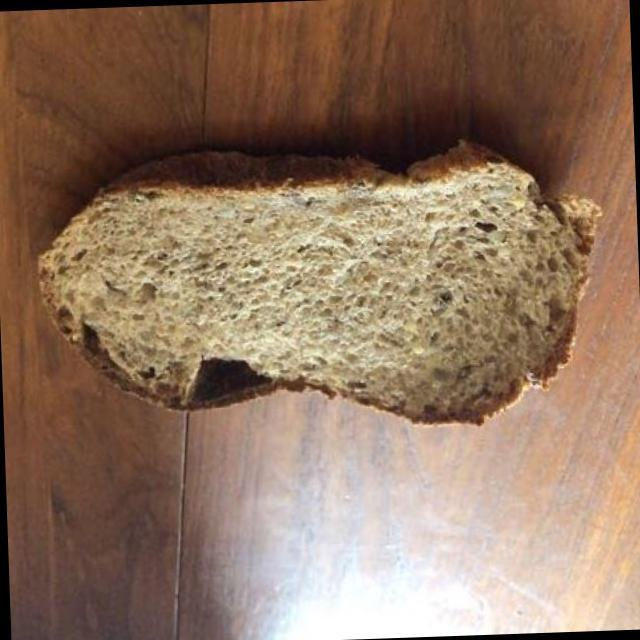Bread: (25, 99, 618, 458)
